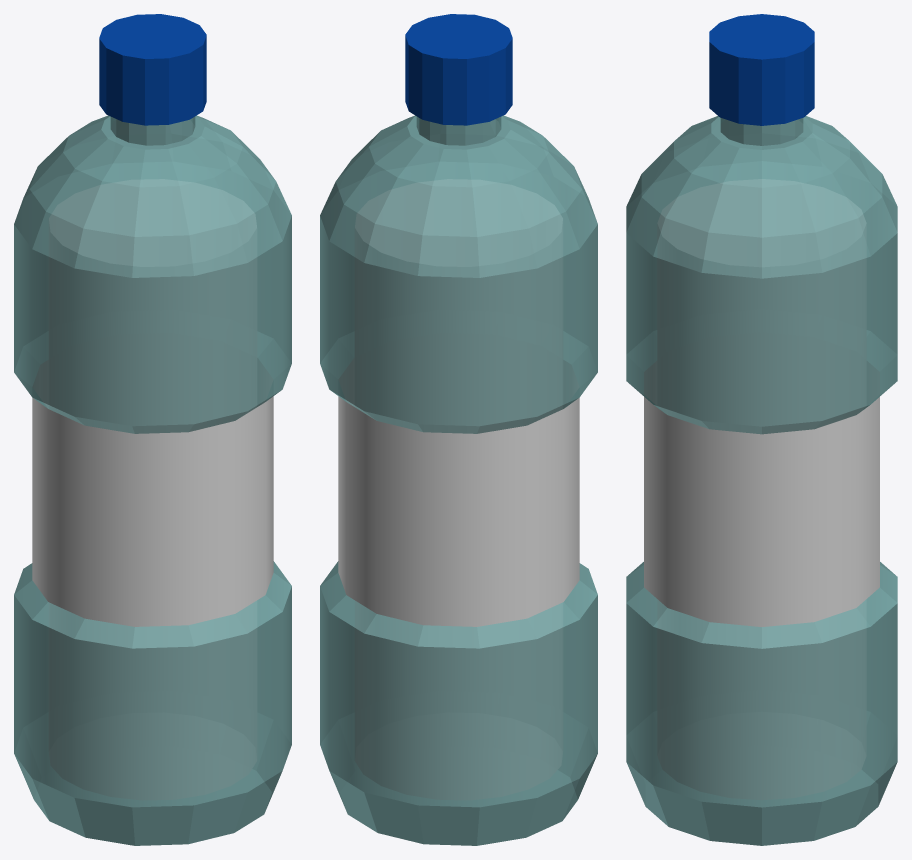
The model's file is Prop_Bottle.fbx.
3 views of the same model, side by side, from view 1: azimuth 30°, elevation 25°; view 2: azimuth 150°, elevation 25°; view 3: azimuth 270°, elevation 25° (orthographic).
Parts seen in each view (by area): view 1: Garrafa_Agua, Agua; view 2: Garrafa_Agua, Agua; view 3: Garrafa_Agua, Agua.
Part boxes in pixels (box(x1,y1,x2,y2)): Garrafa_Agua: box(14, 14, 291, 845); Agua: box(49, 179, 256, 799); Garrafa_Agua: box(320, 14, 597, 845); Agua: box(355, 179, 562, 799); Garrafa_Agua: box(626, 14, 897, 845); Agua: box(658, 179, 865, 799).
Size of the model in its own units: 9.67 by 29.08 by 9.43.
